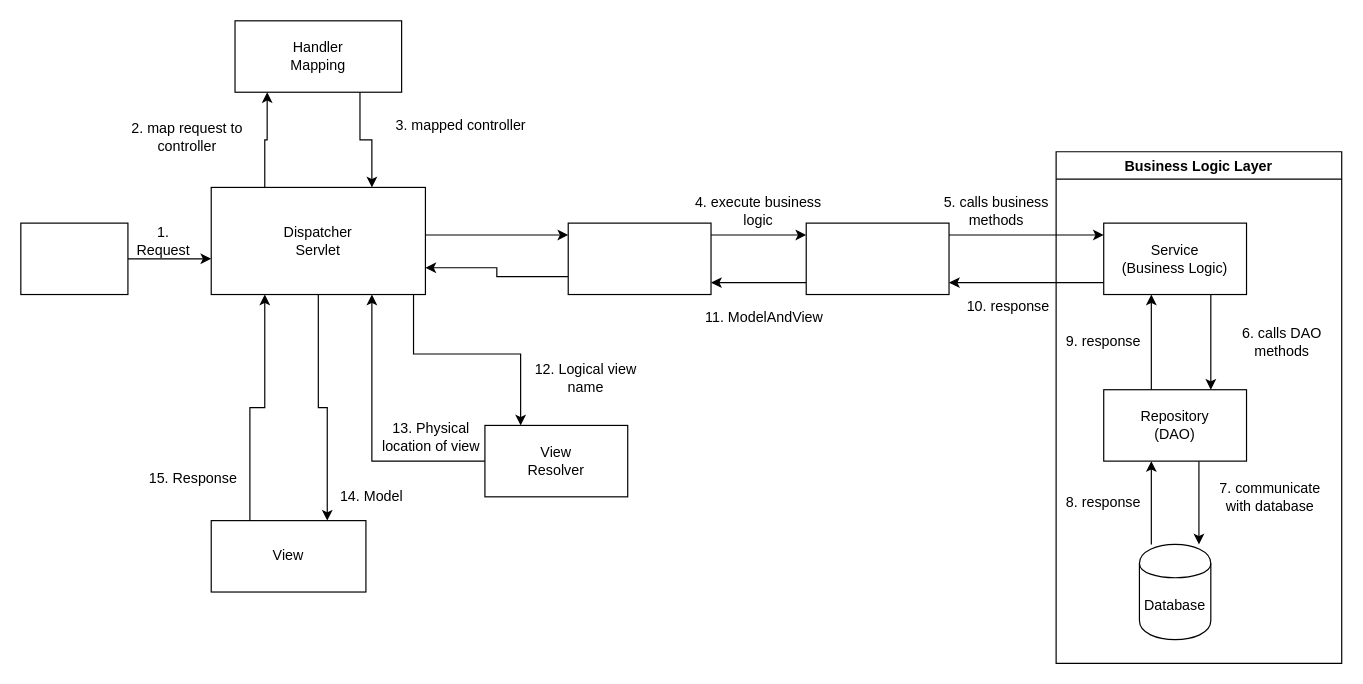
Some shapes in this 1363 by 684 pixel diagram are drawn without their labels. Here are the shapes that lost their labels. From the top down, the centre of each, then its label:
At (x=74, y=258): "Client".
At (x=639, y=258): "HandlerAdapter".
At (x=877, y=258): "Controller".
